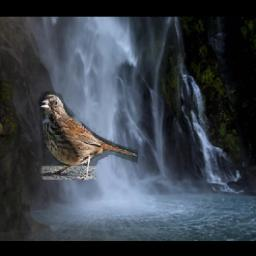Sparrow: (38, 92, 138, 181)
